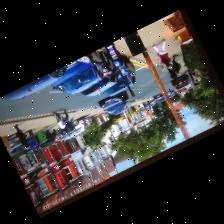person: (152, 39, 169, 66), (14, 124, 28, 147), (60, 109, 72, 130), (53, 113, 64, 128), (171, 54, 180, 72), (166, 67, 176, 79)
